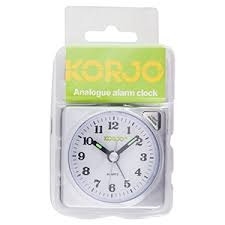alarm_clock: (58, 105, 165, 210)
